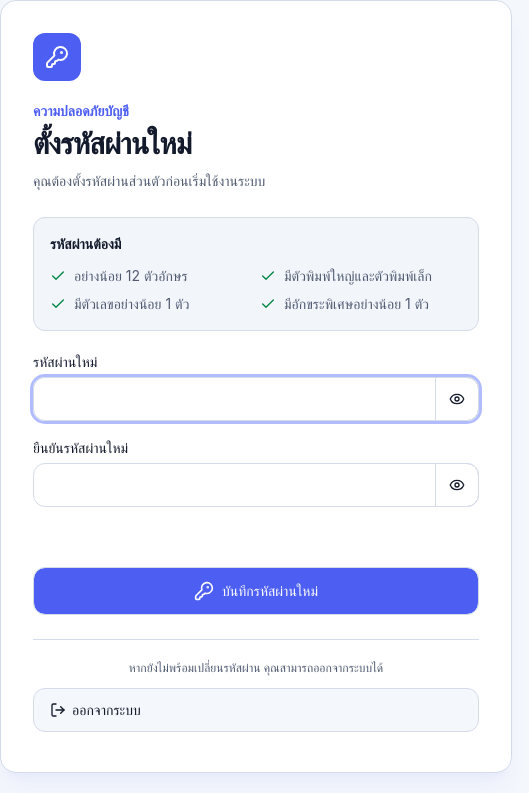
Test: ChangePasswordForm › สลับแสดงรหัสผ่านใหม่ด้วย accessible name
Click the button named "แสดงรหัสผ่านใหม่" at [457, 399], box [435,377,479,421]
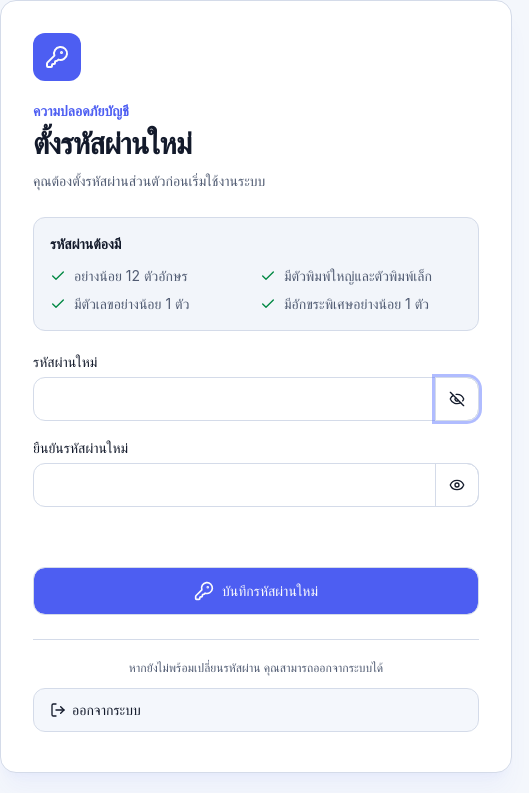
Result: the button named "ซ่อนรหัสผ่านใหม่" is shown at [435,377,479,421]
